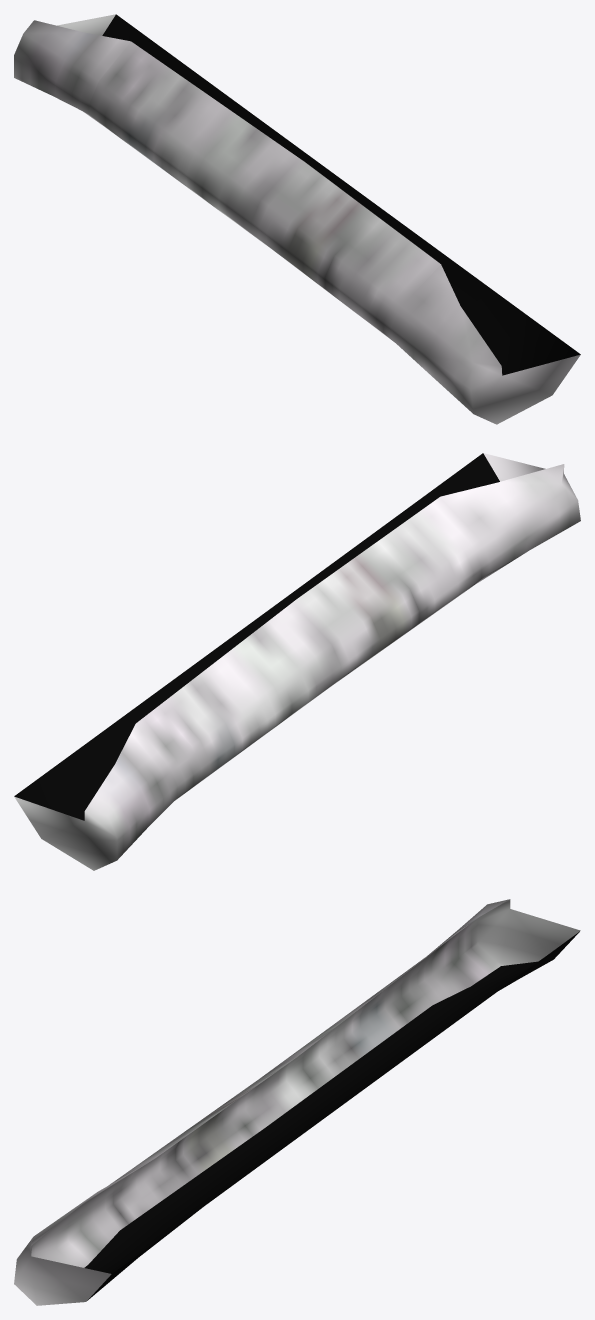
3 views of the same model, one above another, from view 1: azimuth 30°, elevation 25°; view 2: azimuth 150°, elevation 25°; view 3: azimuth 330°, elevation 25° (orthographic).
Parts seen in each view (by area): view 1: wg_l_a_l; view 2: wg_l_a_l; view 3: wg_l_a_l.
Boxes of the visible parts, x1=… form: wg_l_a_l: x1=14, y1=14, x2=580, y2=424; wg_l_a_l: x1=14, y1=453, x2=580, y2=870; wg_l_a_l: x1=14, y1=899, x2=580, y2=1305.
Size of the model in its own units: 0.264 by 0.2221 by 2.11.
2 materials, 1 textured.
